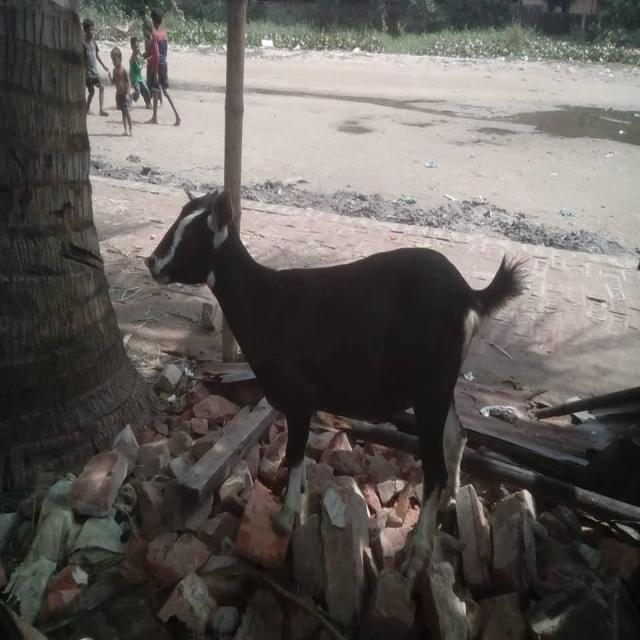not_pig: (143, 183, 531, 581)
